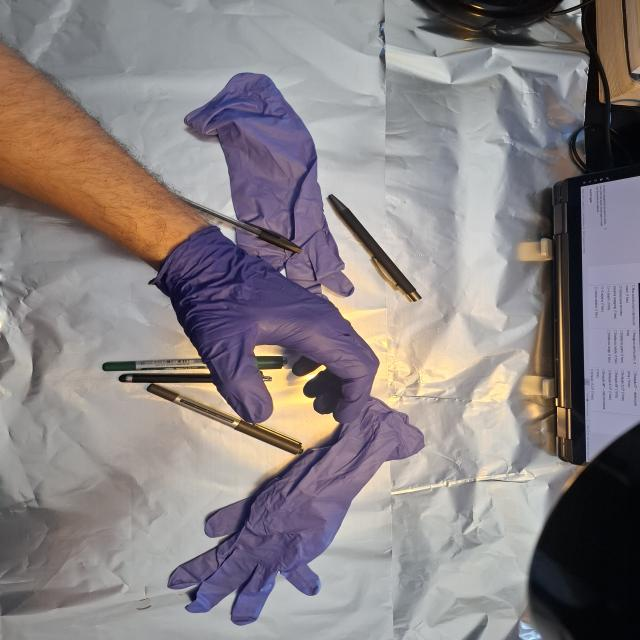glove_on: (156, 227, 382, 426)
